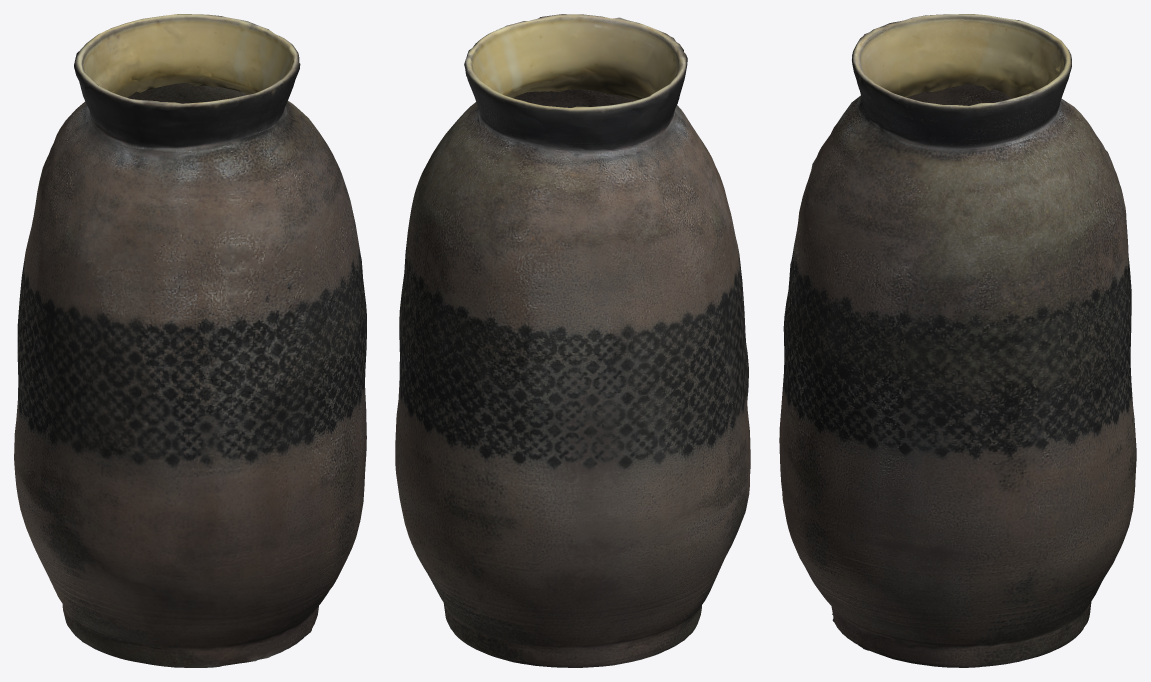
File: edd.glb
3 views of the same model, side by side, from view 1: azimuth 30°, elevation 25°; view 2: azimuth 150°, elevation 25°; view 3: azimuth 270°, elevation 25° (orthographic).
Parts seen in each view (by area): view 1: Edd; view 2: Edd; view 3: Edd.
Boxes of the visible parts, <box> form: Edd: <box>14,14,366,667</box>; Edd: <box>395,14,750,667</box>; Edd: <box>779,14,1136,667</box>.
Bounding box in the file's own units: 0.2275 × 0.3949 × 0.2296.
Materials: 1 (1 with a texture image).
